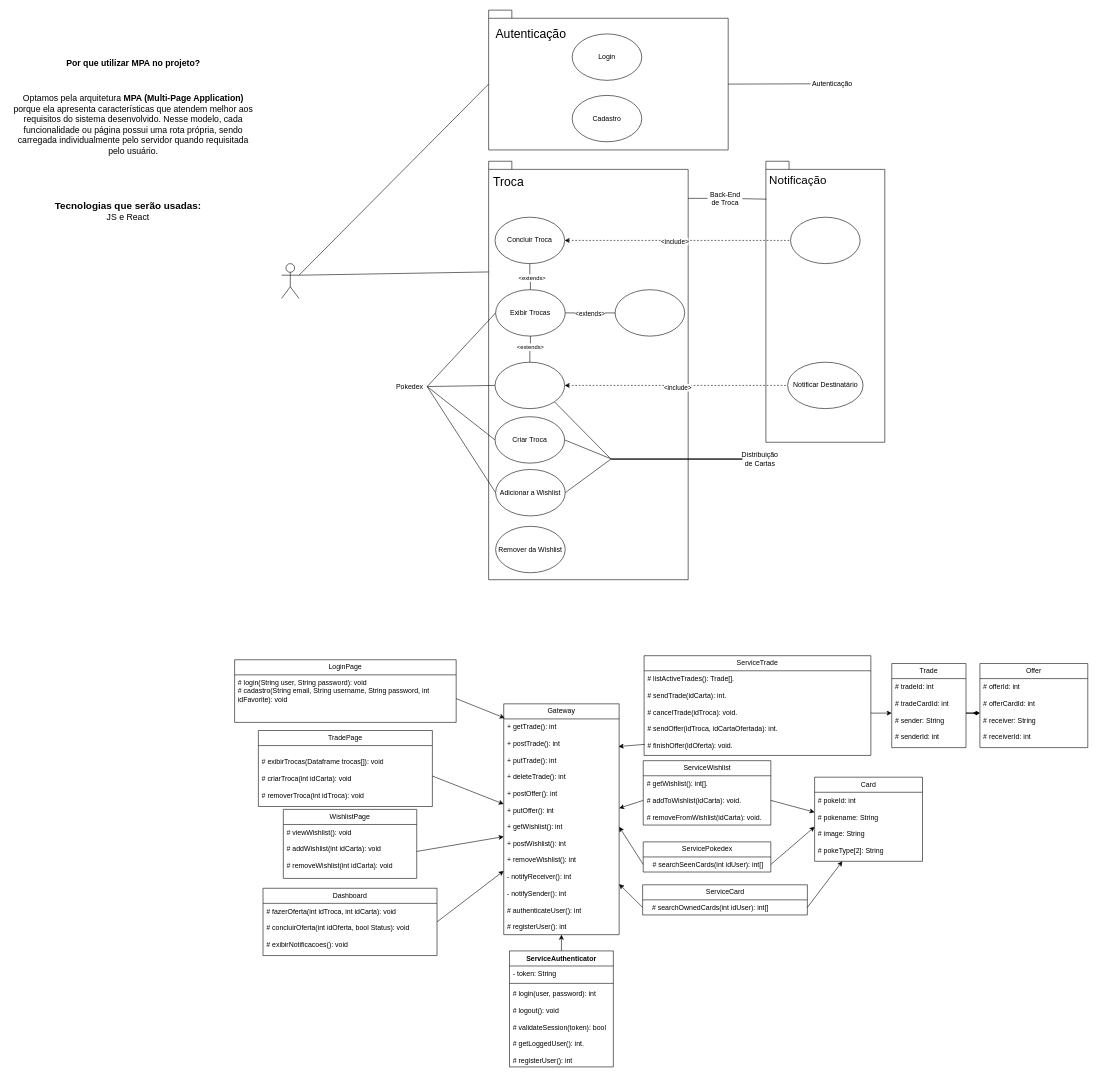
This 1098x1079 diagram has some shape labels left out. The shapes that lost their labels are listed below. From the top down, each one's centre as x and y in pixels, then its label:
[825,240]: Notificar Remetente
[290,280]: Usuario
[650,312]: Historico
[529,385]: Fazer Oferta
